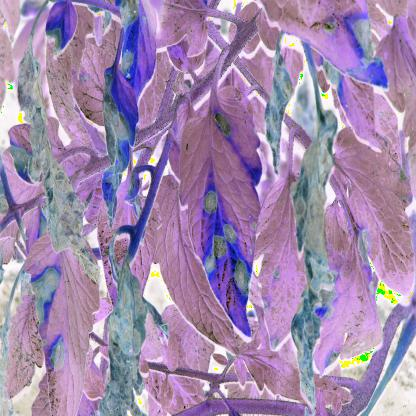Tomato Early blight leaf: (311, 124, 416, 374), (182, 85, 259, 340), (29, 228, 96, 416), (289, 4, 388, 90), (103, 65, 138, 217), (114, 2, 157, 94)
